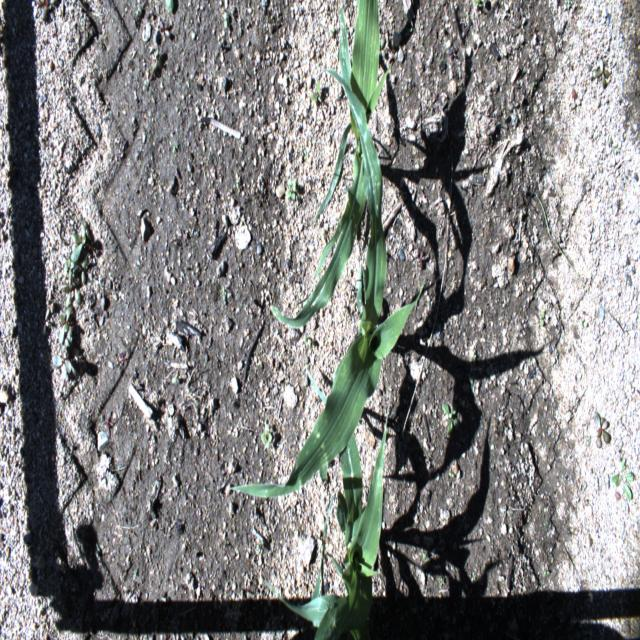crop: (229, 70, 424, 498), (270, 0, 392, 327), (263, 365, 391, 638)
weed: (527, 190, 626, 334), (612, 459, 634, 500), (52, 346, 74, 380), (73, 224, 93, 260), (440, 404, 460, 435), (60, 268, 74, 310), (594, 412, 610, 444), (592, 58, 610, 86), (60, 306, 72, 342), (150, 47, 162, 75), (76, 256, 88, 283), (40, 0, 55, 21), (260, 421, 271, 448), (311, 79, 322, 105), (40, 306, 49, 336), (72, 277, 80, 306), (376, 33, 384, 61), (286, 178, 296, 198), (64, 257, 74, 276), (64, 328, 73, 349), (165, 0, 175, 15), (539, 309, 546, 329), (472, 0, 486, 10), (302, 336, 312, 348), (36, 0, 44, 13), (542, 568, 551, 578), (422, 551, 428, 564), (530, 79, 536, 91), (448, 471, 456, 479), (329, 27, 334, 36)
